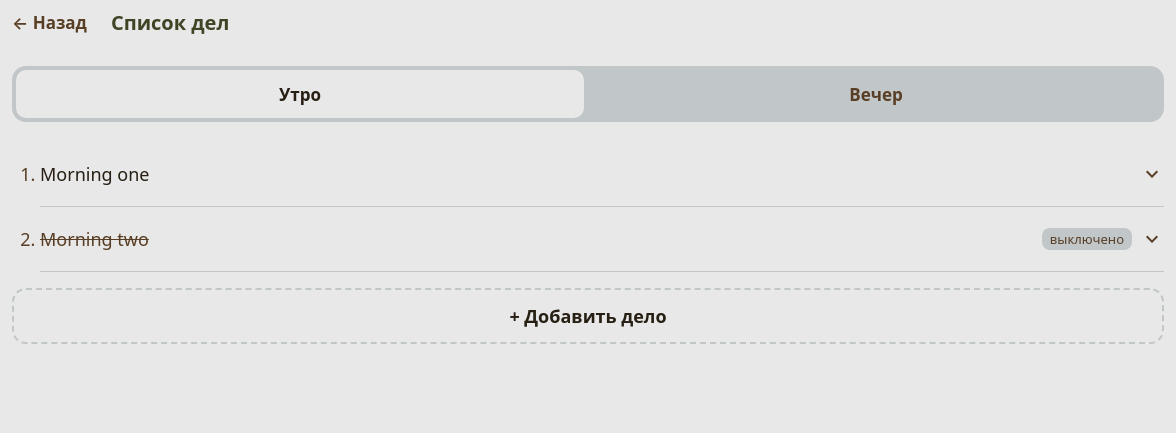
Test case: Editor: row toolbar › keeps only one row open
This screenshot has width=1176, height=433.
Click the button "Morning one": x=95, y=174 top-left (40, 150), bottom-right (1164, 198)
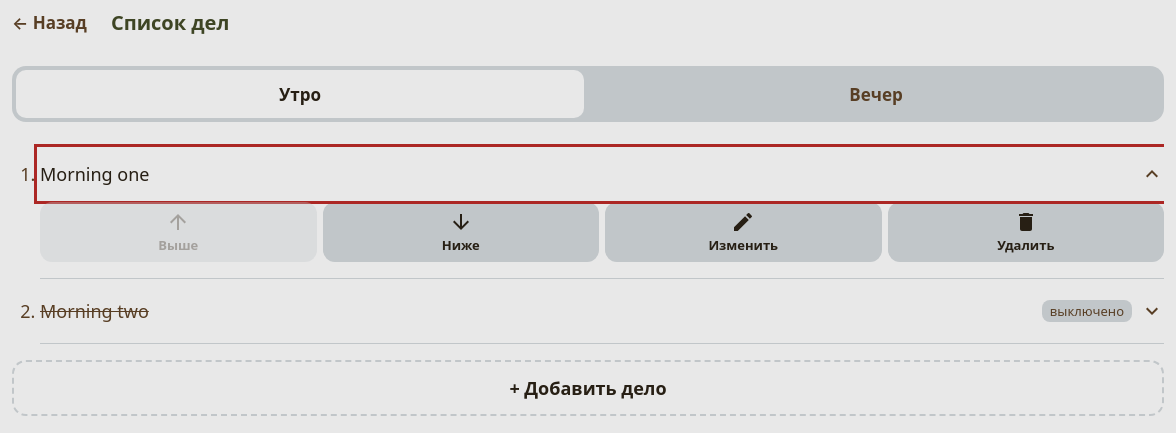
Click the button "Morning two выключено": x=94, y=311 top-left (40, 287), bottom-right (1164, 335)
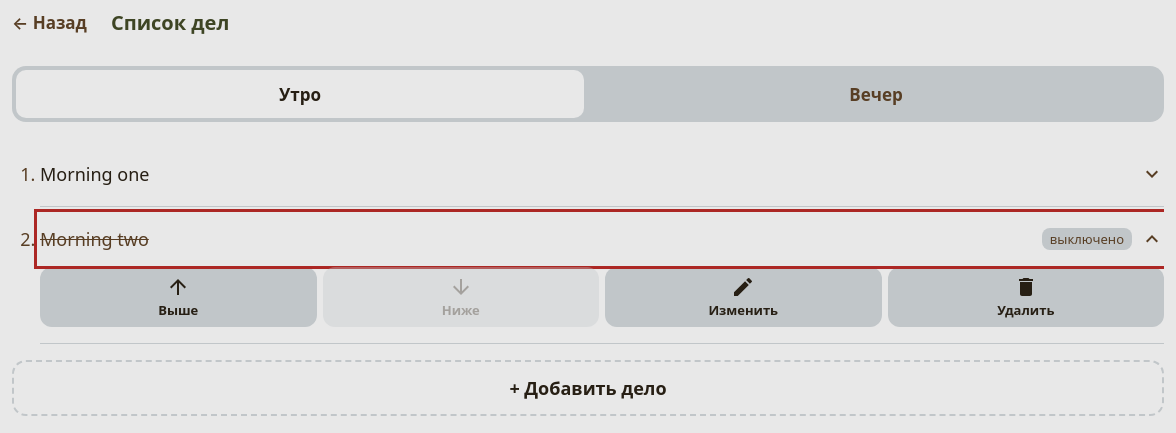
Expected: the number of buttons "Выше" is 1, top-left (40, 267), bottom-right (316, 327)
Expected: the button "Morning one" is collapsed, top-left (40, 150), bottom-right (1164, 198)
